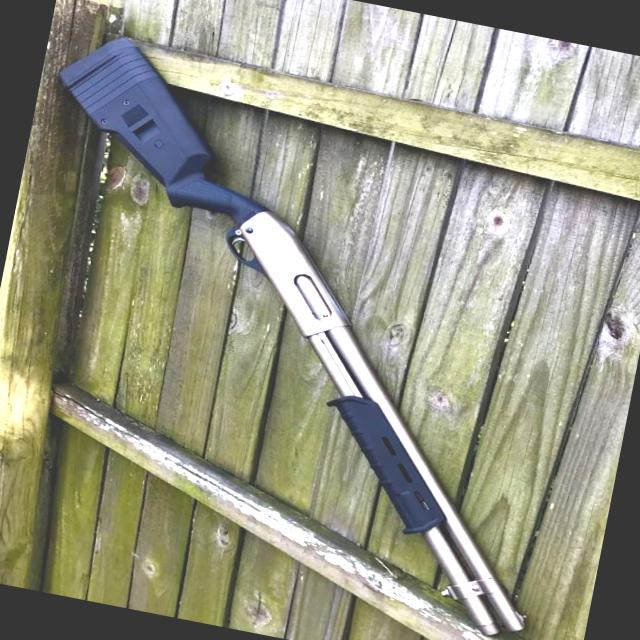shotgun: (0, 25, 631, 640)
